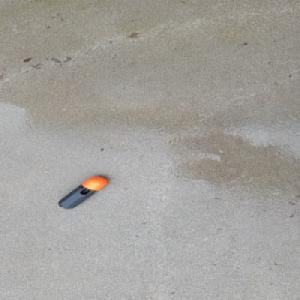PlasticPart: (56, 175, 107, 209)
